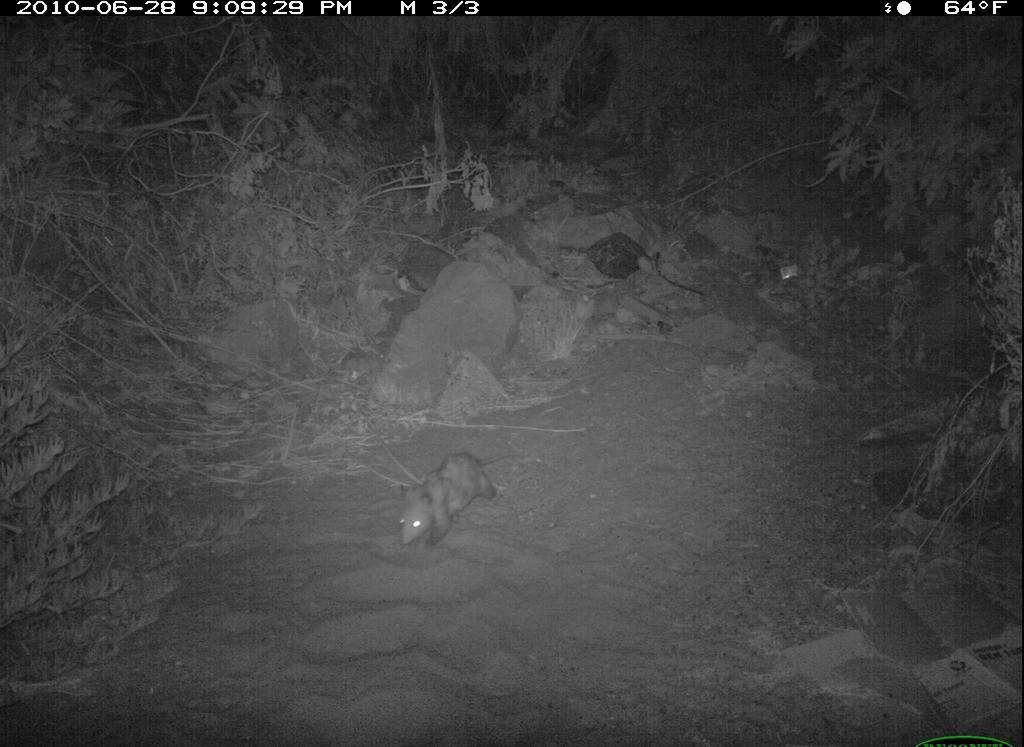opossum: (385, 424, 537, 552)
